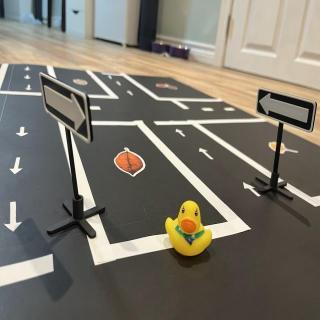duck_regular: (167, 196, 217, 258)
road_oneway: (5, 200, 23, 236), (243, 179, 263, 201), (11, 152, 25, 178), (197, 145, 215, 164), (16, 122, 30, 140), (22, 83, 34, 95), (174, 128, 186, 140), (24, 75, 34, 83), (26, 65, 33, 75)
sign_oneway_left: (257, 88, 315, 134)
sign_oneway_right: (41, 74, 92, 144)
